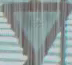Give way: (3, 1, 68, 59)
